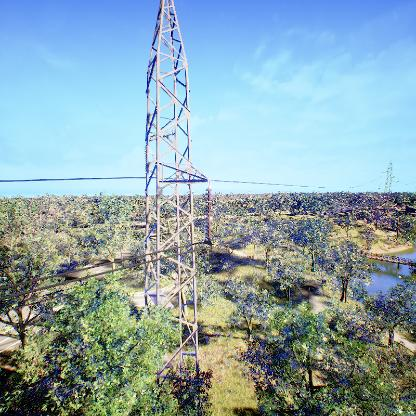tower: (128, 0, 213, 416)
